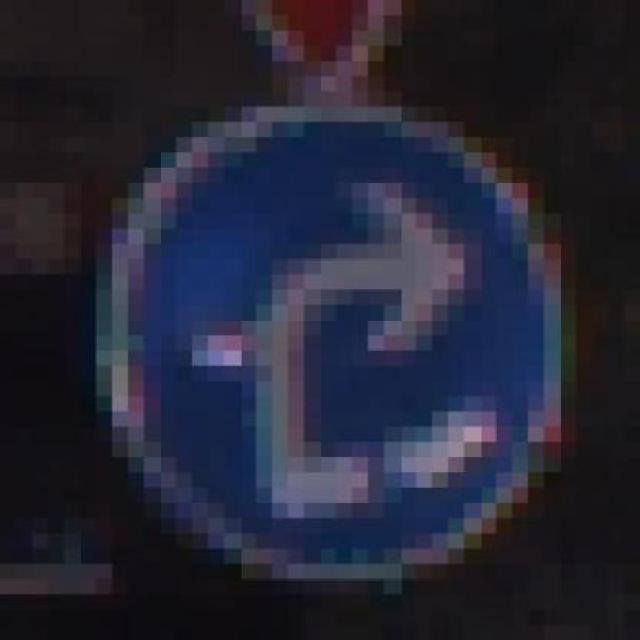Turn right ahead: (80, 92, 592, 579)
